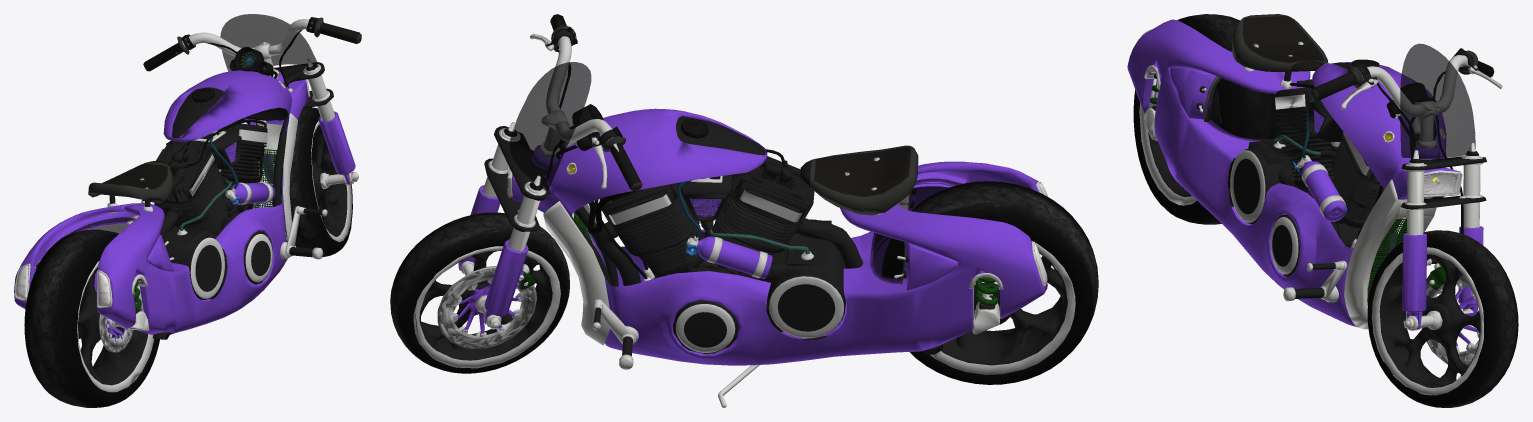
The model's file is monad-transformed.glb.
3 views of the same model, side by side, from view 1: azimuth 30°, elevation 25°; view 2: azimuth 150°, elevation 25°; view 3: azimuth 270°, elevation 25° (orthographic). The views are drawn at different scales.
Visible parts, largest first — view 1: Object_10, Object_18, Object_34, Object_44, Object_40, Object_17, Object_32, Object_15; view 2: Object_18, Object_10, Object_44, Object_34, Object_40, Object_15, Object_32; view 3: Object_18, Object_10, Object_44, Object_34, Object_40, Object_32, Object_15, Object_2.
Part boxes in pixels (<box>): Object_10: <box>16,17,361,385</box>; Object_18: <box>14,70,355,341</box>; Object_34: <box>24,107,352,407</box>; Object_44: <box>14,19,358,392</box>; Object_40: <box>69,14,318,234</box>; Object_17: <box>15,265,110,306</box>; Object_32: <box>36,149,287,309</box>; Object_15: <box>99,314,133,352</box>; Object_18: <box>453,108,1047,365</box>; Object_10: <box>415,14,1067,365</box>; Object_44: <box>413,34,1075,407</box>; Object_34: <box>390,181,1098,384</box>; Object_40: <box>509,62,962,283</box>; Object_15: <box>437,266,536,348</box>; Object_32: <box>518,212,998,305</box>; Object_18: <box>1127,19,1483,346</box>; Object_10: <box>1148,14,1494,387</box>; Object_44: <box>1139,29,1502,395</box>; Object_34: <box>1133,14,1518,407</box>; Object_40: <box>1206,43,1475,158</box>; Object_32: <box>1150,73,1445,304</box>; Object_15: <box>1421,275,1479,365</box>; Object_2: <box>1424,173,1461,195</box>.
Bounding box in the file's own units: 1.85 × 1.06 × 1.19.
Materials: 13 (13 with a texture image).
